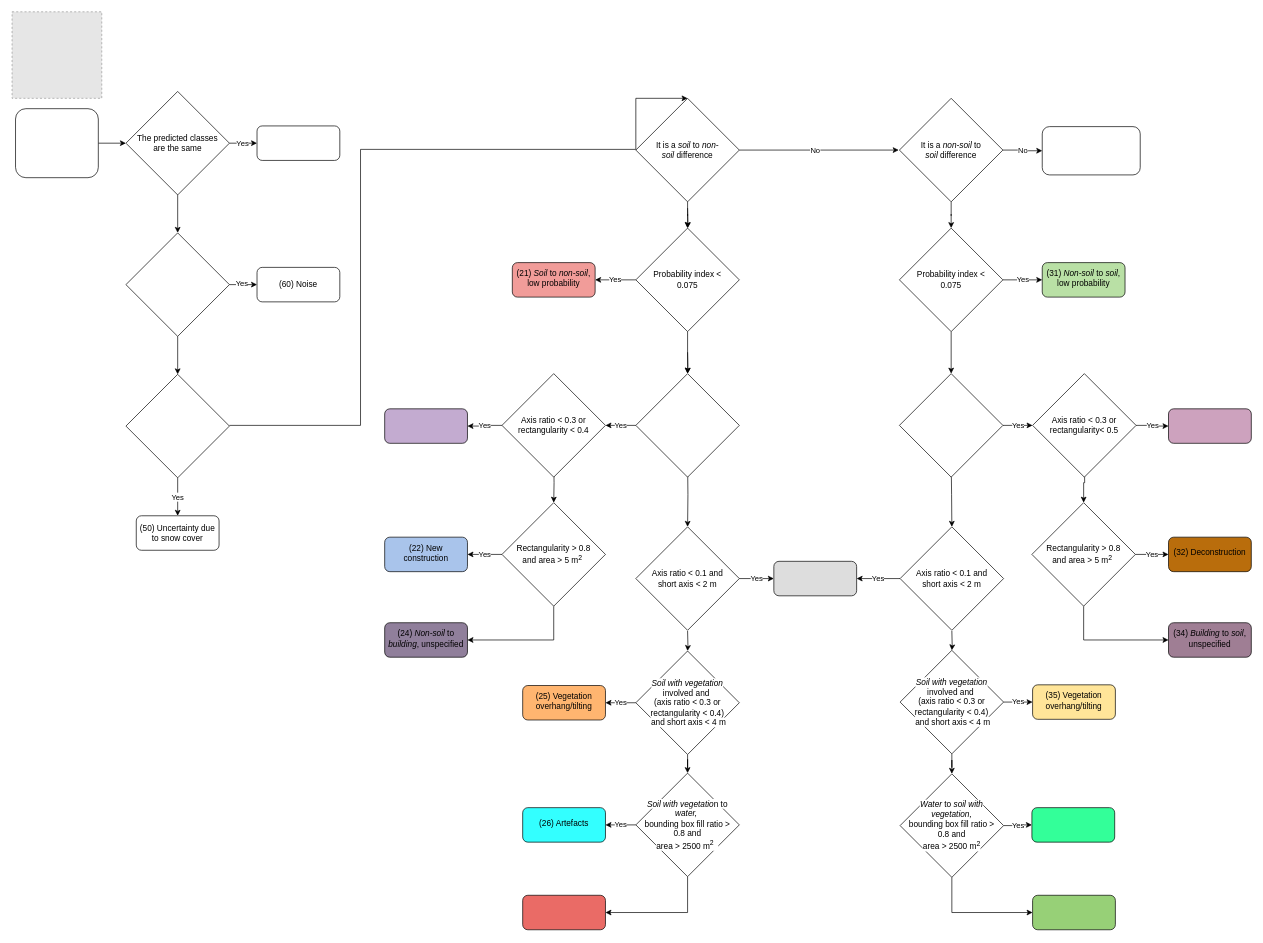
Image size: 1263x943. Some labels were removed from this diagram. Grey dashed boxes stand in for pictures. Here are the shapes that lost their labels. From the top down, the box of each, then its label:
(15, 108, 98, 178): 1 polygon with 1 type of the 256 possible differences and several descriptors
(256, 125, 340, 160): (0) No change
(1042, 126, 1140, 175): (10) Non important, difference within the same superclass
(125, 232, 229, 336): The area is smaller than 1 m 2
(125, 374, 229, 478): The difference involves the snow class
(384, 408, 467, 443): (23) Tilt of building
(635, 373, 739, 477): The difference goes to the building class
(899, 373, 1003, 477): The difference comes from the building class
(1168, 408, 1251, 443): (33) Tilt of building
(773, 561, 857, 596): (40) Border
(1031, 807, 1115, 842): (36) Artefacts
(522, 895, 605, 930): (20) Soil to non-soil , high probability
(1032, 895, 1115, 930): (30) Non-soil to soil , low probability
